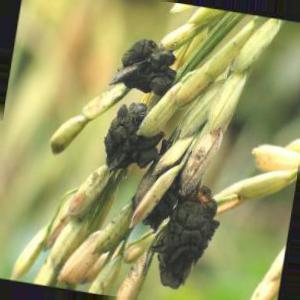Leaf_Scald: (156, 189, 206, 292), (102, 114, 162, 172), (123, 42, 175, 94)
